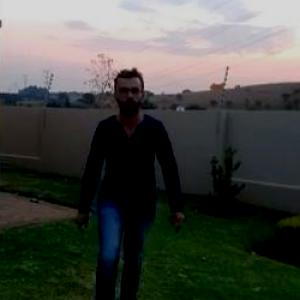follow: (80, 76, 166, 298)
